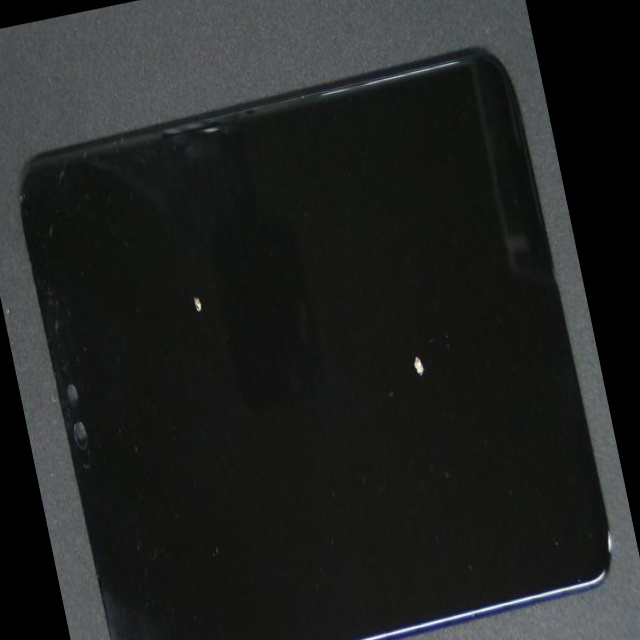stain: (189, 83, 625, 559), (73, 109, 305, 438)
